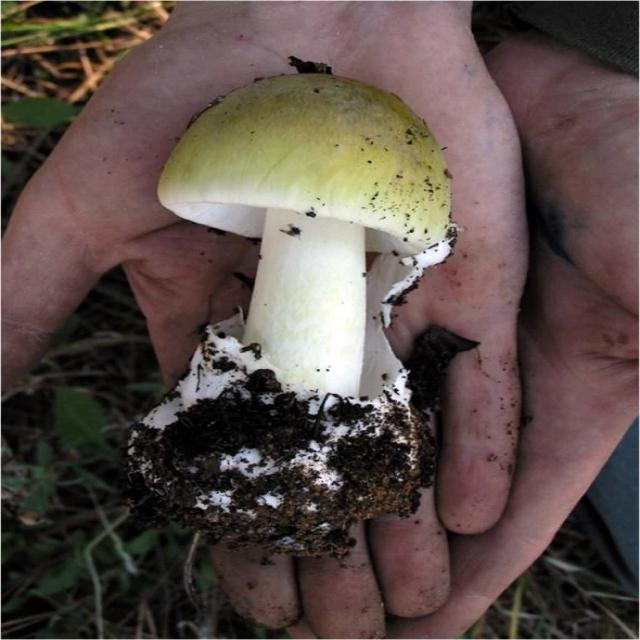death-cap: (120, 74, 452, 527)
